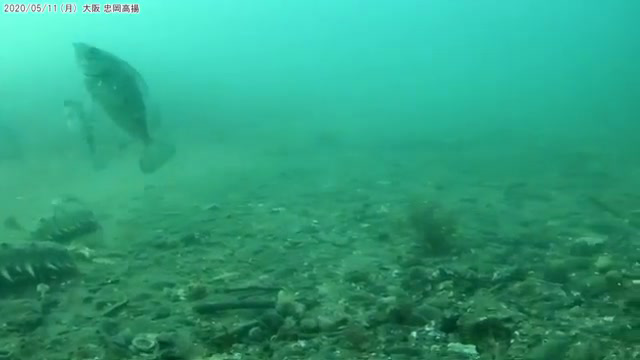smallfish: (68, 38, 163, 170)
